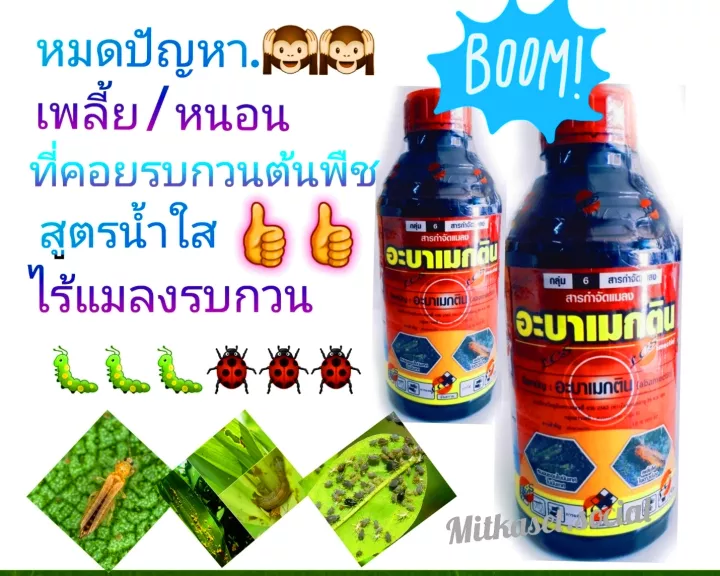Insecticide: (500, 78, 690, 565), (371, 83, 508, 427)
